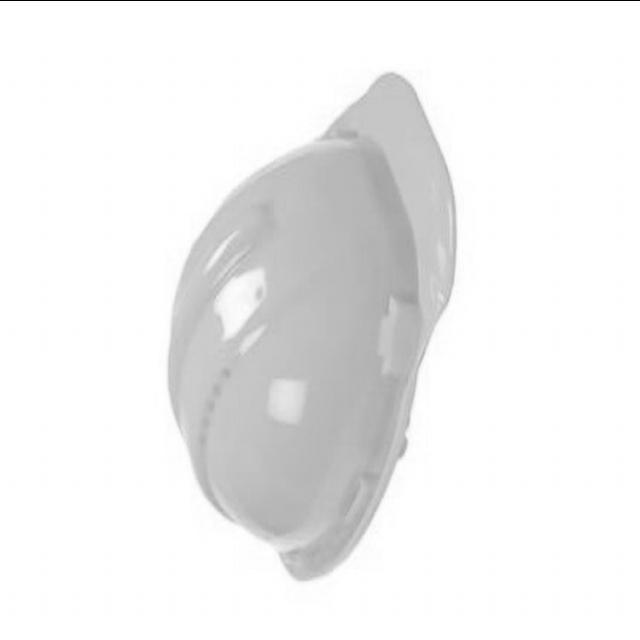safety_helmet: (167, 69, 460, 583)
